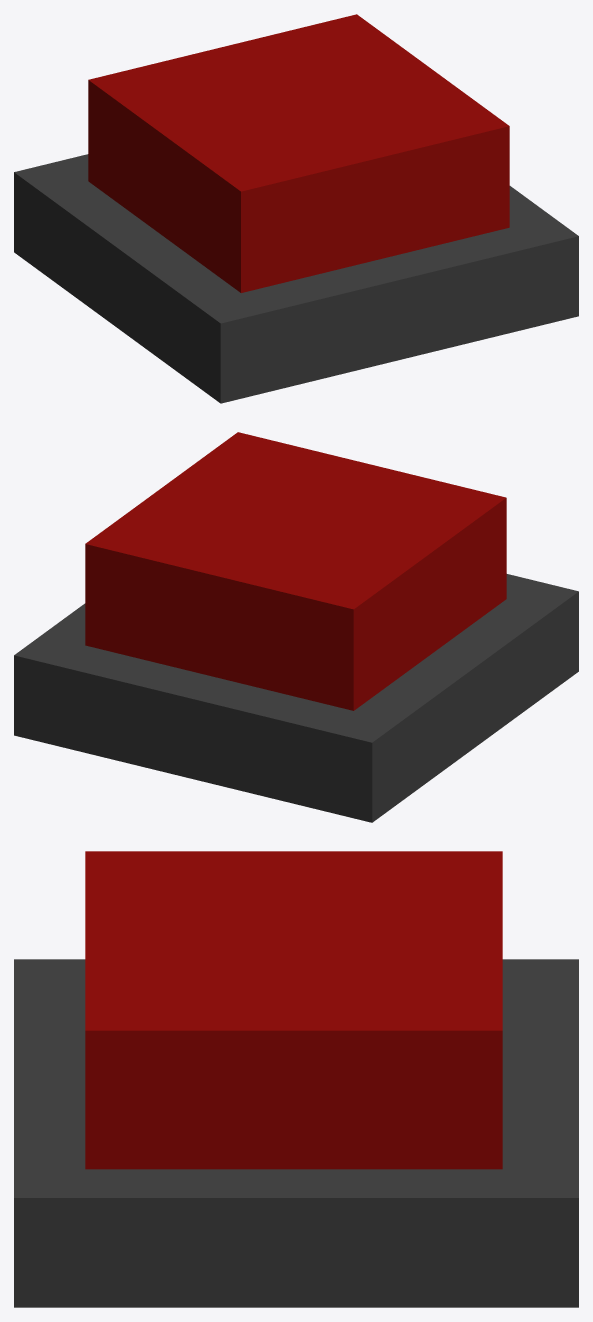
File: BottonAsset.fbx
3 renders of one model, top to bottom at view 1: azimuth 30°, elevation 25°; view 2: azimuth 150°, elevation 25°; view 3: azimuth 270°, elevation 25°, orthographic. The views are drawn at different scales.
Visible parts, largest first — view 1: Bttn; view 2: Bttn; view 3: Bttn.
Boxes of the visible parts, x1,y1,x2,y2 form: Bttn: (14, 14, 578, 403); Bttn: (14, 432, 578, 822); Bttn: (14, 851, 578, 1307).
Size of the model in its own units: 124 by 60.02 by 124.
